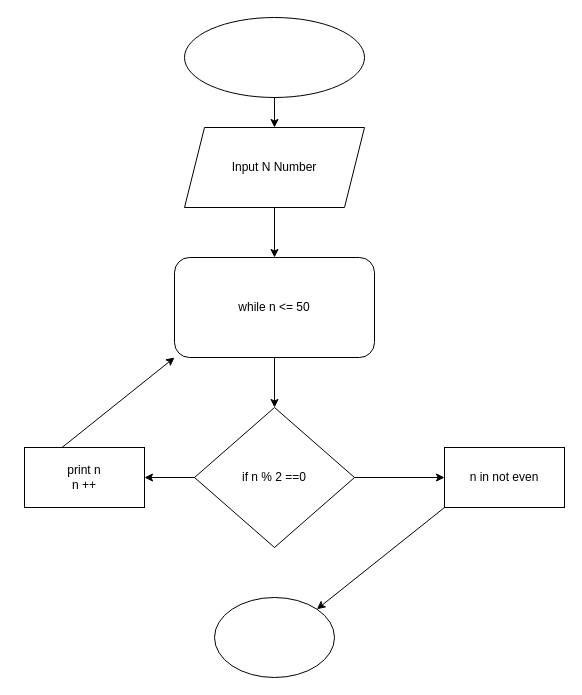
Image size: 582x695. Some labels were removed from this diagram. Here are the shapes that lost their labels. From the top down, the box of each, then its label:
(184, 16, 364, 98): start
(214, 596, 334, 678): end
